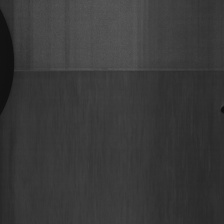crescent_gap: (10, 63, 223, 78), (0, 0, 25, 120)
